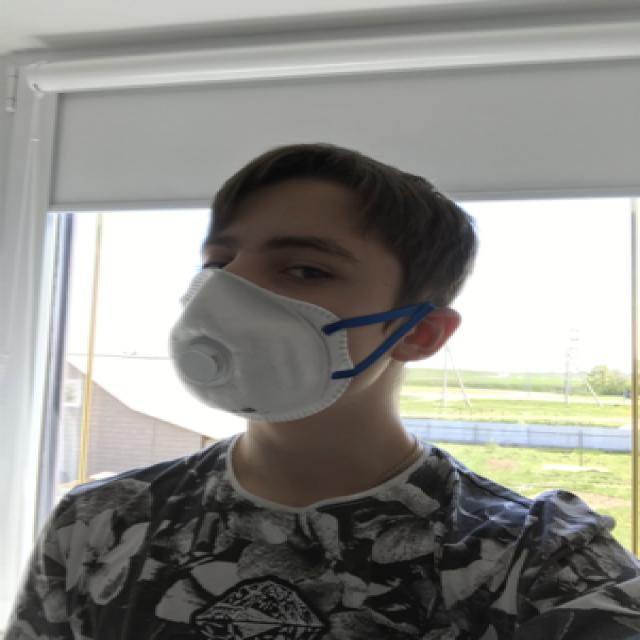mask: (175, 210, 376, 420)
